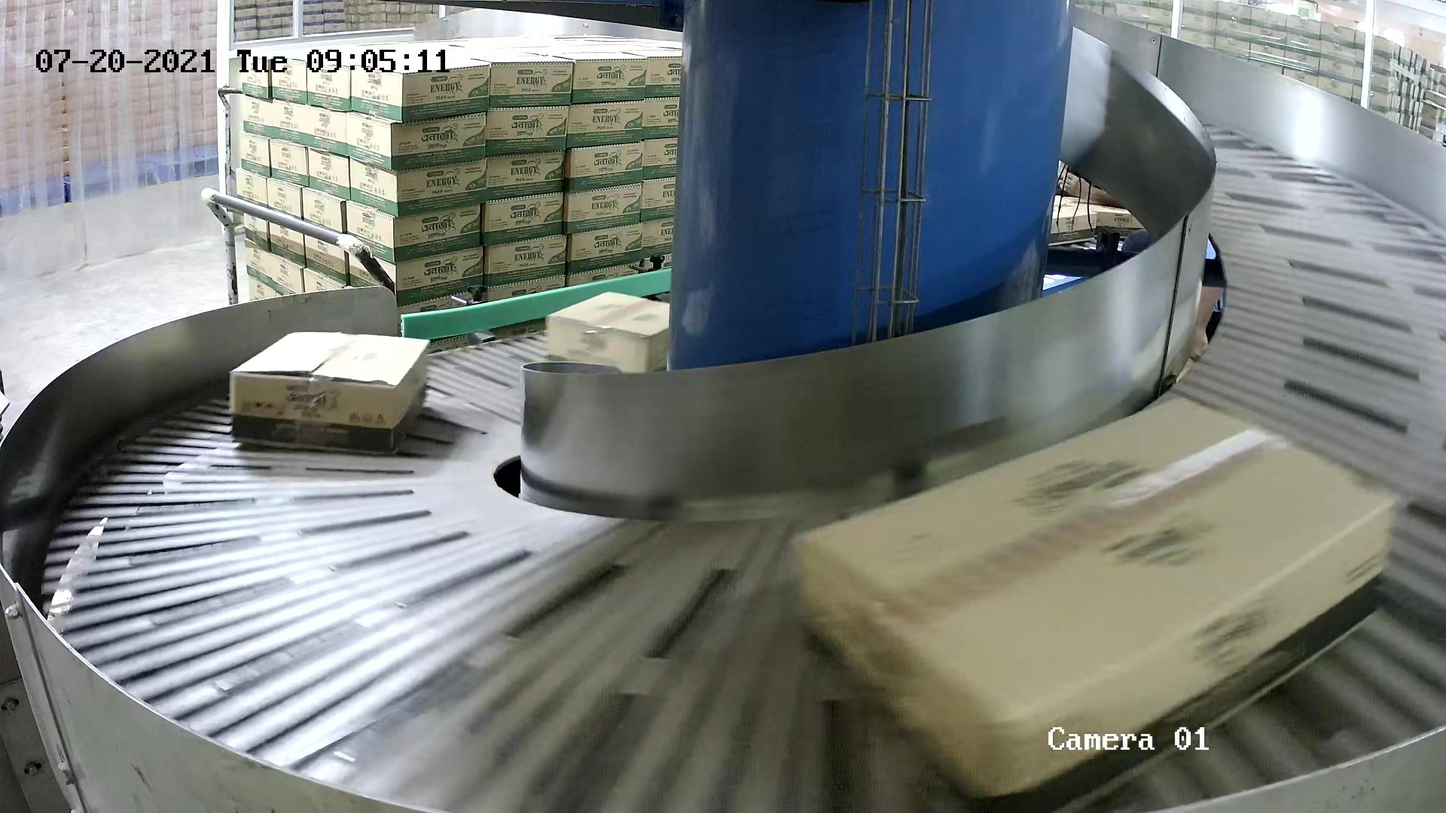Box: (793, 391, 1400, 813), (229, 333, 430, 457)
